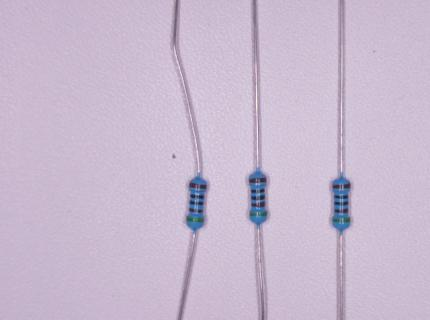Black band: (334, 201, 349, 206), (190, 194, 204, 199), (251, 188, 265, 193), (251, 195, 265, 200), (190, 201, 204, 205), (334, 195, 348, 199)
Brown band: (332, 182, 350, 189), (189, 183, 206, 189), (251, 201, 266, 207), (249, 178, 267, 183), (334, 208, 349, 213), (189, 208, 203, 212)
Green band: (187, 216, 205, 222), (332, 218, 350, 222), (249, 212, 267, 216)
